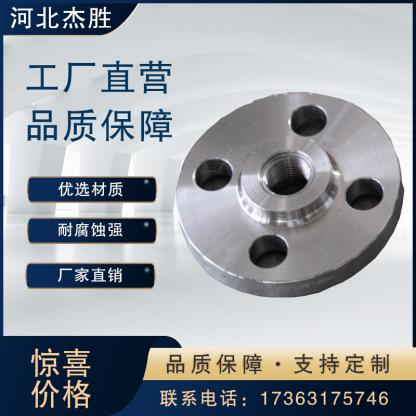FOD: (174, 88, 406, 302)
